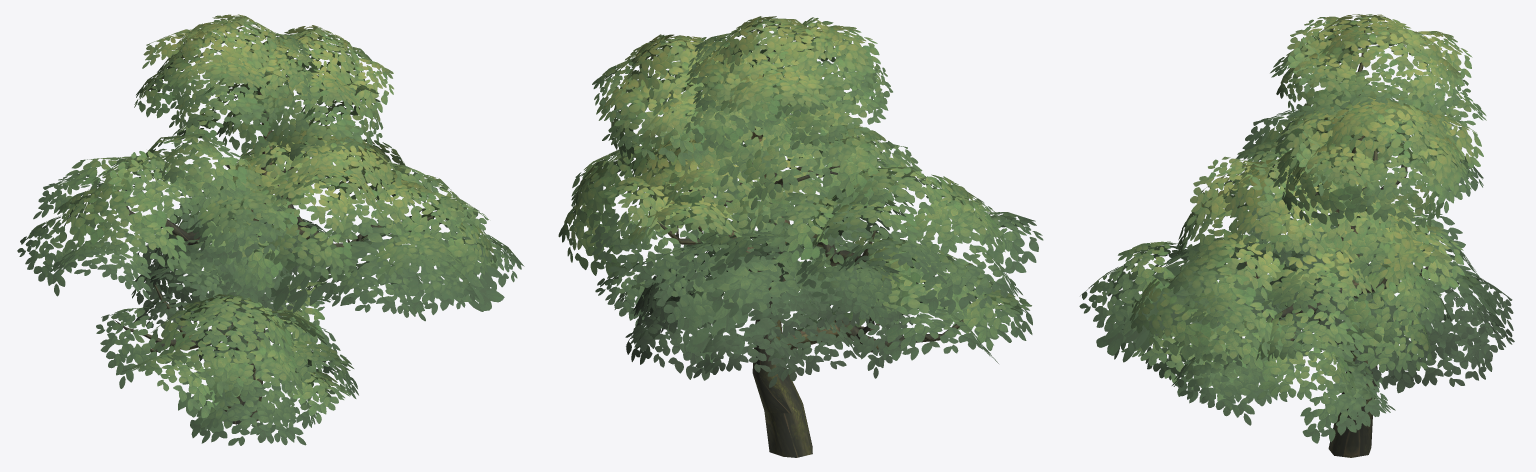
3 views of the same model, side by side, from view 1: azimuth 30°, elevation 25°; view 2: azimuth 150°, elevation 25°; view 3: azimuth 270°, elevation 25° (orthographic). The views are drawn at different scales.
Visible parts, largest first — view 1: 树3; view 2: 树3; view 3: 树3.
Boxes of the visible parts, left/top/right/bottom form: 树3: left=17, top=14, right=524, bottom=445; 树3: left=558, top=16, right=1043, bottom=457; 树3: left=1079, top=14, right=1514, bottom=457.
Bounding box in the file's own units: 8.07 × 6.85 × 6.51.
2 materials, 2 textured.
